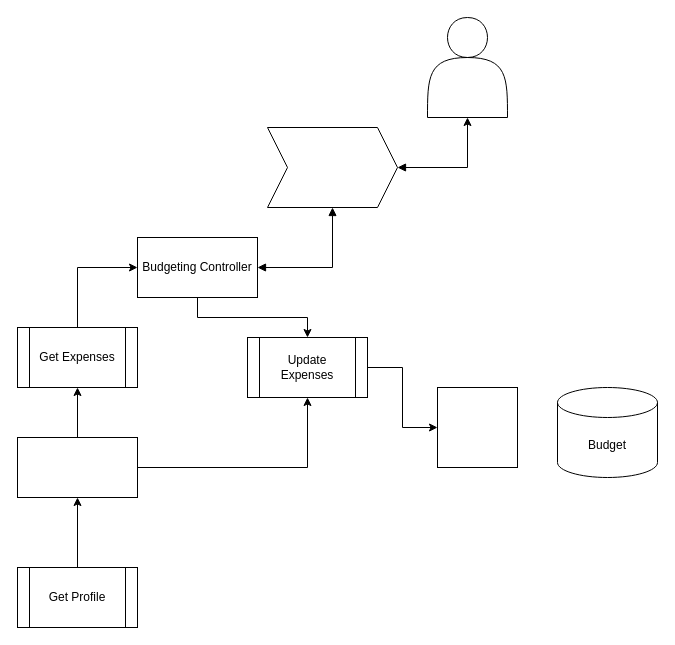
The diagram is 675 pixels wide and 645 high, and some of its shapes have lost their labels. The box of each missing label's shape, as (x1, y1, x2, y2) in pixels:
Add Expense To Budget Table: (266, 126, 398, 208)
Budgeting Library: (436, 386, 518, 468)
User Management Controller: (16, 436, 138, 498)
